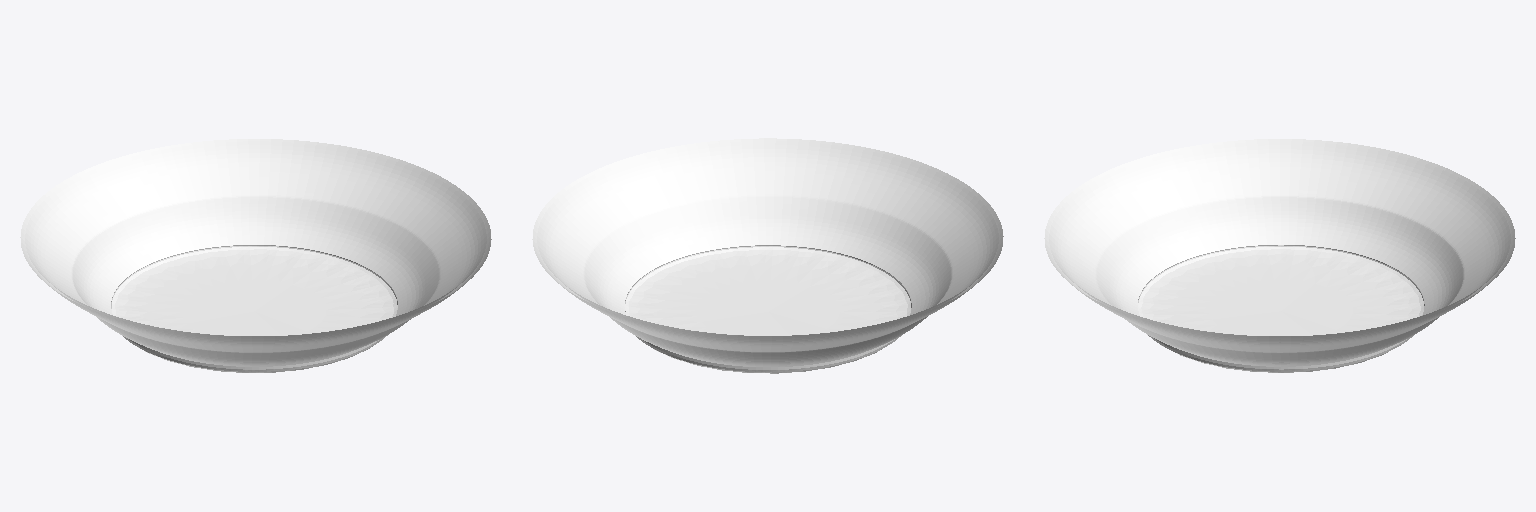
URDF robot description (plate.urdf):
<?xml version="0.0" ?>
<robot name="plate.urdf">
  <link name="baseLink">
    <contact>
      <lateral_friction value="1.0"/>
    </contact>
    <inertial>
      <mass value="0.4"/>
      <origin rpy="0 0 0" xyz="0.00031095 -0.00037344 0.02966366"/>
      <inertia ixx = "0.00190108" ixy = "0.00000002" ixz = "-0.00000144" iyy = "0.00190107" iyz = "0.00000173" izz = "0.00357904"/>
    </inertial>
    <visual>
      <origin rpy="0 0 0" xyz="0 0 0"/>
      <geometry>
		<mesh filename="plate.dae" scale="1 1 1"/>
      </geometry>
       <material name="white">
        <color rgba="1 1 1 1"/>
      </material>
    </visual>
    <collision>
      <origin rpy="0 0 0" xyz="0 0 0"/>
     <geometry>
		<mesh filename="plate.dae" scale="1 1 1"/>
      </geometry>
    </collision>
  </link>
</robot>

  

--- What the picture shows (computed from the rendered views, not written in the file) ---
3 views of the same robot in one strip: view 1: azimuth 30°, elevation 25°; view 2: azimuth 150°, elevation 25°; view 3: azimuth 270°, elevation 25° (orthographic).
Model plate.urdf with 1 links and 0 joints (none), rooted at baseLink, posed all joints at 0.
Visible links, largest first — view 1: baseLink; view 2: baseLink; view 3: baseLink.
Link boxes in pixels (x1=…): baseLink: x1=20, y1=139, x2=491, y2=372; baseLink: x1=532, y1=138, x2=1003, y2=373; baseLink: x1=1044, y1=139, x2=1515, y2=372.
Bounding box of the posed robot: 0.3199 × 0.3199 × 0.0621 m (x, y, z).
1 mesh visuals loaded from 1 distinct referenced files (1 Collada DAE).